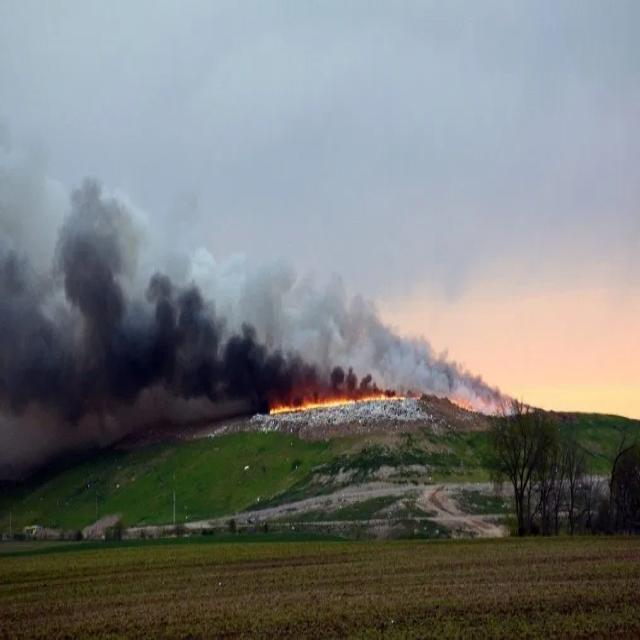Fire: (267, 390, 413, 412)
Smoke: (3, 176, 359, 442), (366, 342, 508, 416)
